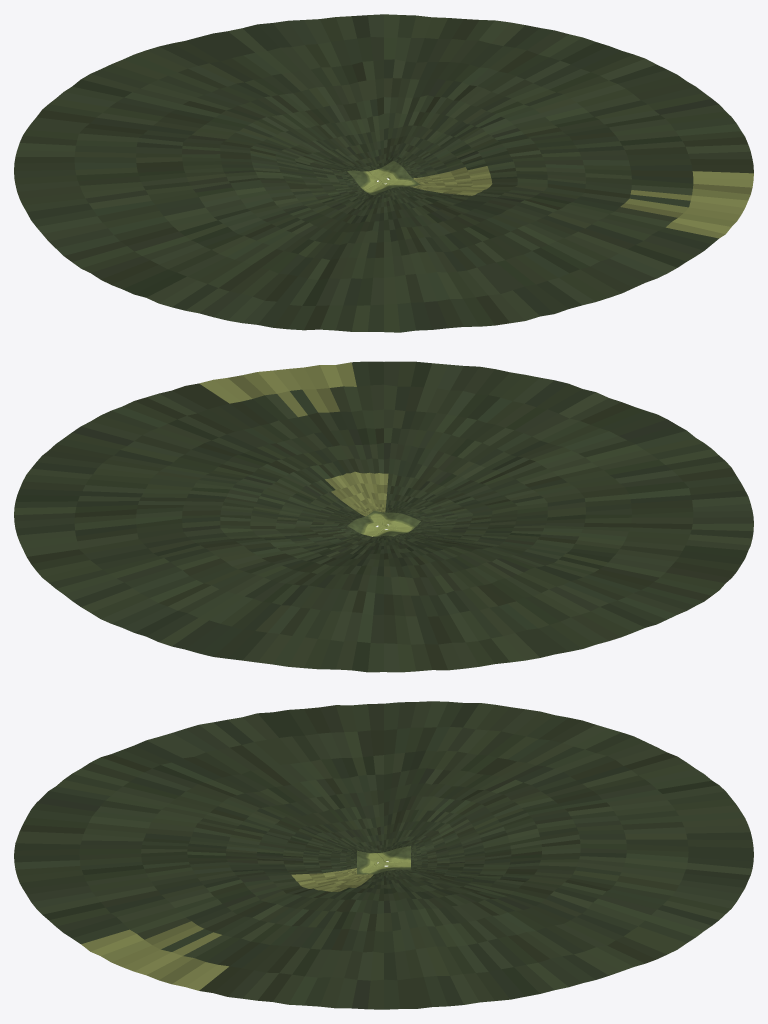
Rendered from kh_terrain.glb.
The picture shows the model from 3 angles, top to bottom: view 1: azimuth 30°, elevation 25°; view 2: azimuth 150°, elevation 25°; view 3: azimuth 270°, elevation 25°; orthographic projection.
Visible parts, largest first — view 1: backdrop, terrain_outer; view 2: backdrop, terrain_outer; view 3: backdrop, terrain_outer.
Boxes of the visible parts, bbox=[...] form: backdrop: bbox=[14, 14, 753, 332]; terrain_outer: bbox=[347, 160, 420, 195]; backdrop: bbox=[14, 361, 753, 672]; terrain_outer: bbox=[347, 510, 420, 536]; backdrop: bbox=[14, 701, 753, 1009]; terrain_outer: bbox=[357, 846, 410, 874].
Size of the model in its own units: 4800 by 152 by 4800.
